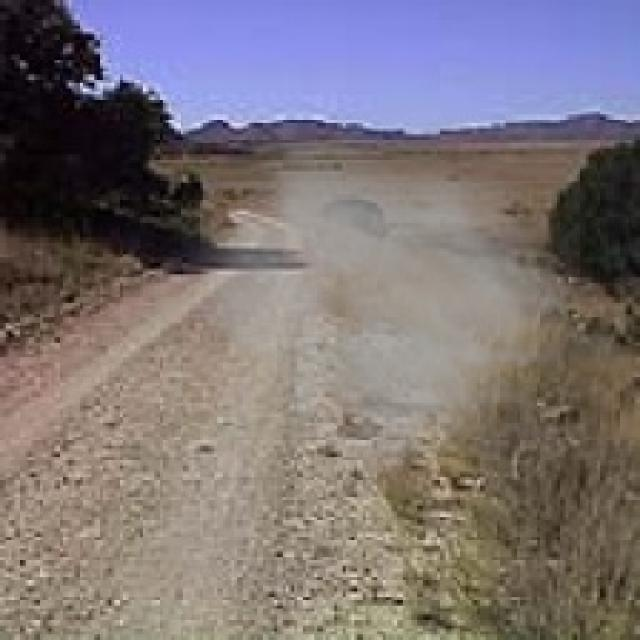Smoke: (175, 142, 594, 498)
